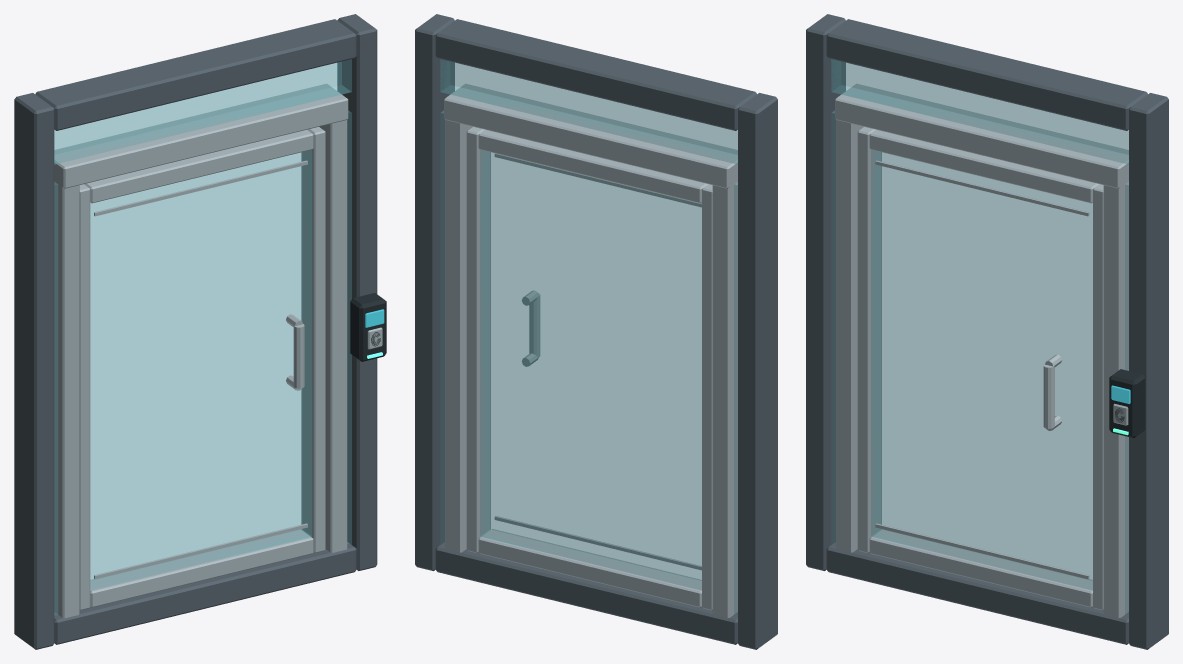
File: 01_wall_lab_glass_door.glb
3 views of the same model, side by side, from view 1: azimuth 30°, elevation 25°; view 2: azimuth 150°, elevation 25°; view 3: azimuth 330°, elevation 25° (orthographic).
Visible parts, largest first — view 1: DoorLeaf, 01_wall_lab_glass_door; view 2: DoorLeaf, 01_wall_lab_glass_door; view 3: DoorLeaf, 01_wall_lab_glass_door.
Part boxes in pixels (x1=…): DoorLeaf: x1=79, y1=127, x2=325, y2=610; 01_wall_lab_glass_door: x1=14, y1=14, x2=386, y2=649; DoorLeaf: x1=466, y1=127, x2=712, y2=610; 01_wall_lab_glass_door: x1=415, y1=14, x2=777, y2=649; DoorLeaf: x1=857, y1=127, x2=1103, y2=610; 01_wall_lab_glass_door: x1=806, y1=14, x2=1168, y2=649.
Bounding box in the file's own units: 2 × 3 × 0.3534.
